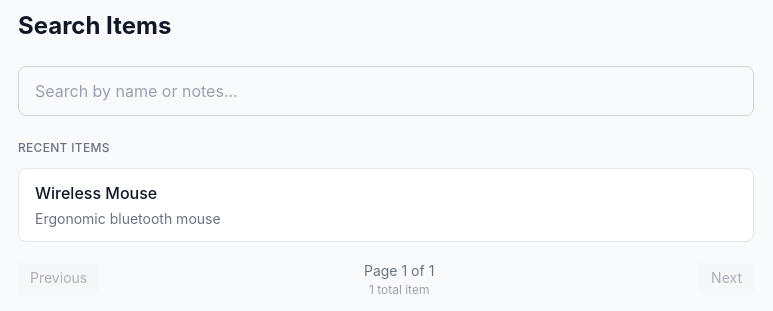
Test case: SearchPage › shows no results message when search returns empty
This screenshot has width=773, height=311.
In the field with placeholder "Search by name or notes...": (386, 91) [18,66,754,116], type "xyznothing"
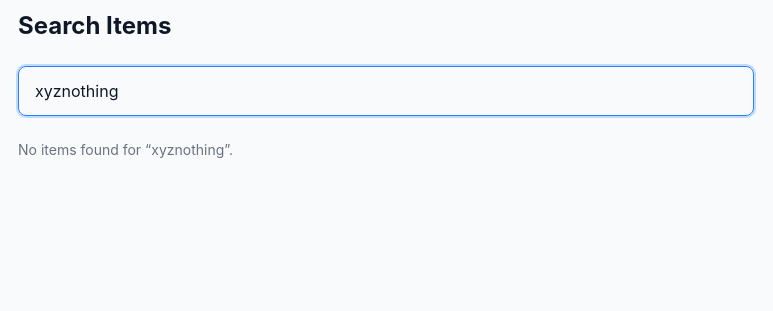
Check: the text "No items found for “xyznothing”." is shown, box [18,141,233,158]
